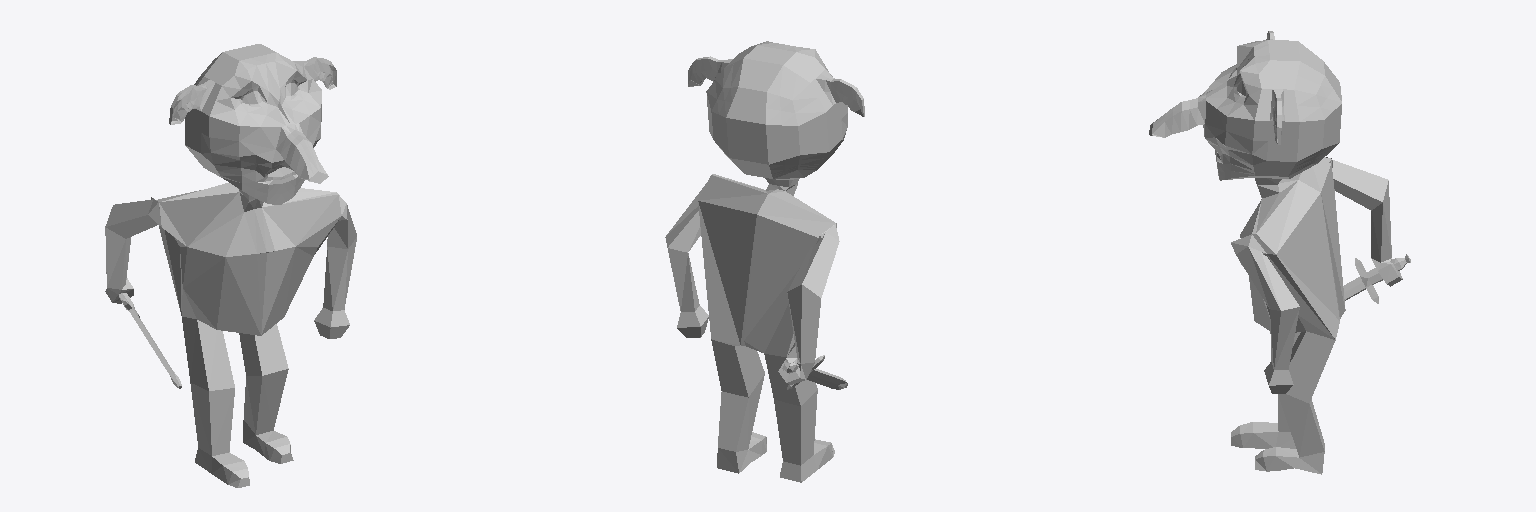
File: andrzejAttack_000036.obj
3 renders of one model, left to right at view 1: azimuth 30°, elevation 25°; view 2: azimuth 150°, elevation 25°; view 3: azimuth 270°, elevation 25°, orthographic.
Parts seen in each view (by area): view 1: Cube; view 2: Cube; view 3: Cube.
Part boxes in pixels (bbox=[...]): Cube: bbox=[105, 44, 356, 487]; Cube: bbox=[665, 41, 864, 482]; Cube: bbox=[1149, 31, 1410, 474].
Size of the model in its own units: 4.81 by 9.23 by 5.36.